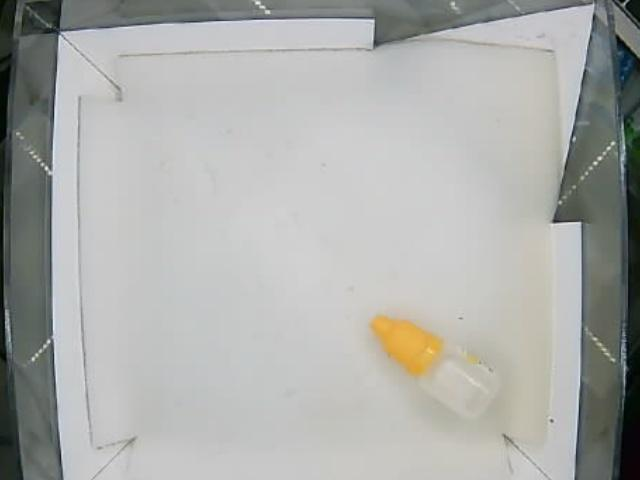Bottle: (370, 314, 503, 419)
